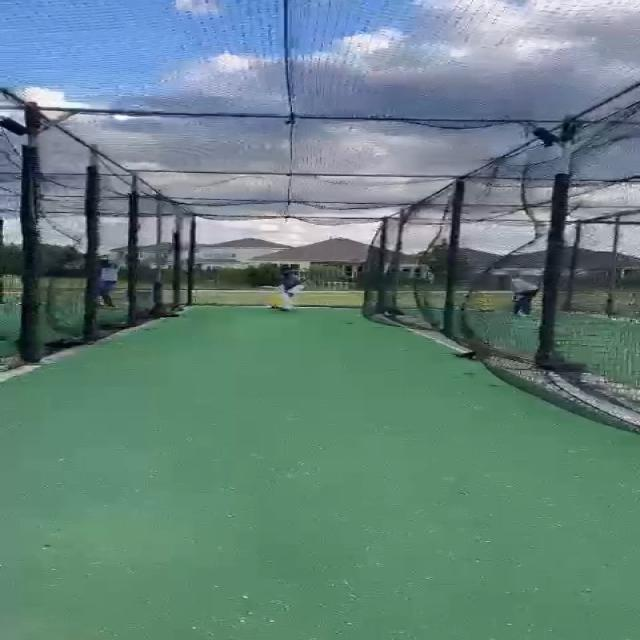batsman: (258, 264, 308, 312)
